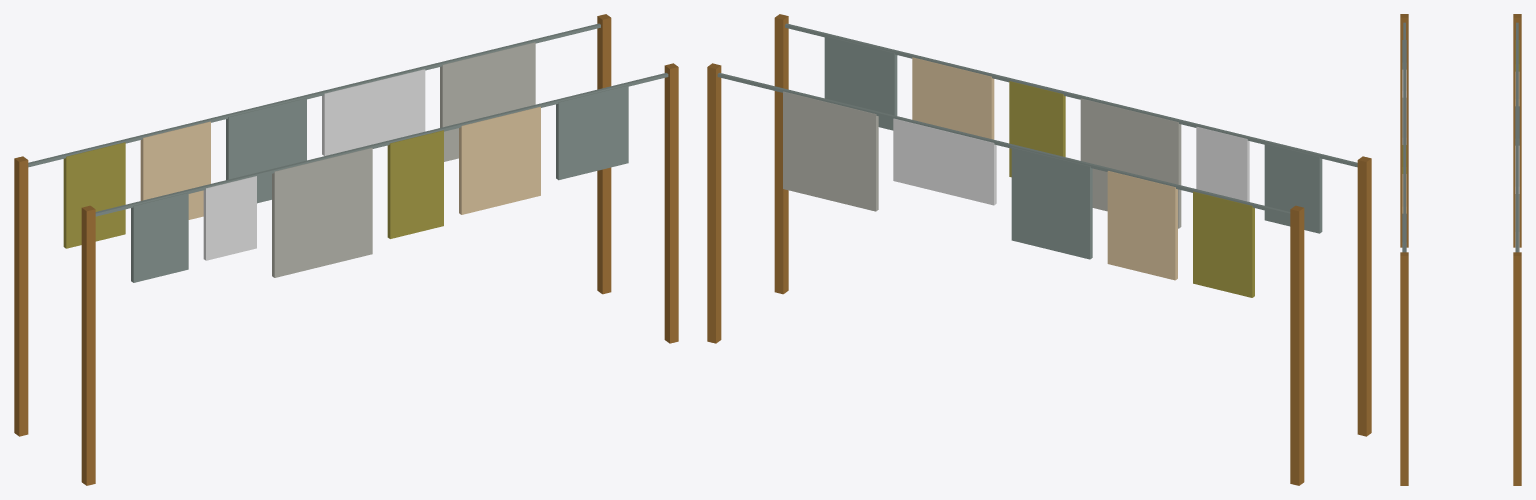
File: SM_Tendedero_v1_DosCuerdas_LOD0.fbx
3 views of the same model, side by side, from view 1: azimuth 30°, elevation 25°; view 2: azimuth 150°, elevation 25°; view 3: azimuth 270°, elevation 25° (orthographic). The views are drawn at different scales.
Parts seen in each view (by area): view 1: SM_vida_fuerte_v6_LOD0; view 2: SM_vida_fuerte_v6_LOD0; view 3: SM_vida_fuerte_v6_LOD0.
Boxes of the visible parts, x1,y1,x2,y2 form: SM_vida_fuerte_v6_LOD0: [14, 14, 678, 485]; SM_vida_fuerte_v6_LOD0: [707, 14, 1371, 485]; SM_vida_fuerte_v6_LOD0: [1400, 14, 1521, 485].
Bounding box in the file's own units: 4.06 × 1.8 × 0.86.
